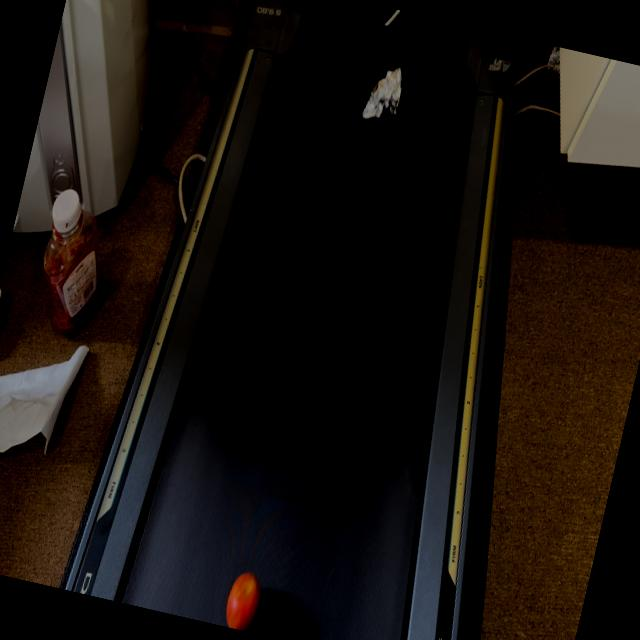Trash: (356, 57, 408, 130), (220, 564, 270, 633)
